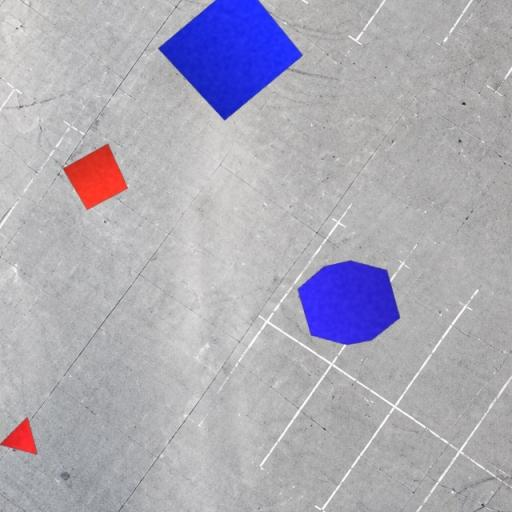BLUE_SQUARE: (158, 0, 304, 122)
RED_SQUARE: (62, 144, 129, 210)
